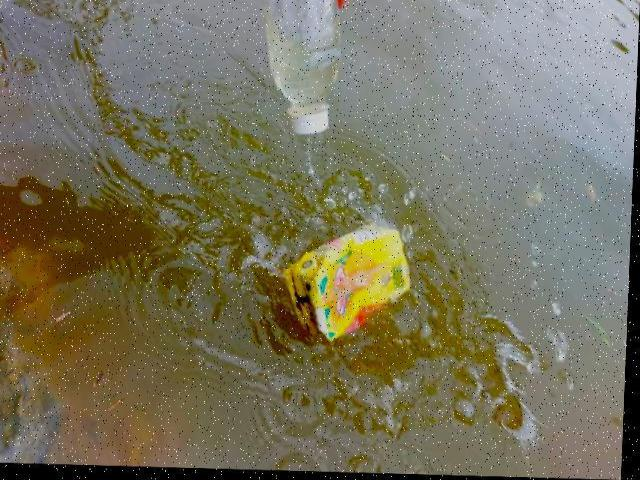Bottle: (259, 0, 346, 138)
Box: (266, 212, 420, 348)
